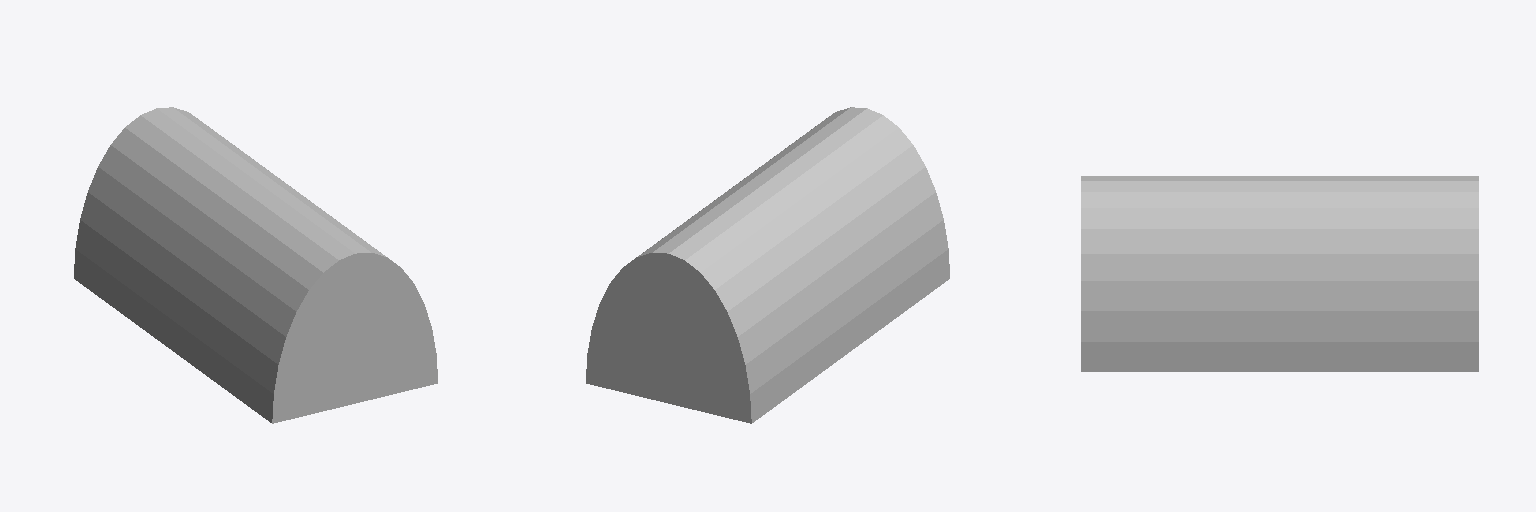
File: coffin_cristal.obj
The picture shows the model from 3 angles: view 1: azimuth 30°, elevation 25°; view 2: azimuth 150°, elevation 25°; view 3: azimuth 270°, elevation 25°; orthographic projection.
Parts seen in each view (by area): view 1: Cristal_Circle; view 2: Cristal_Circle; view 3: Cristal_Circle.
Boxes of the visible parts, x1,y1,x2,y2 form: Cristal_Circle: [74, 107, 437, 423]; Cristal_Circle: [586, 107, 949, 423]; Cristal_Circle: [1081, 176, 1478, 371].
Bounding box in the file's own units: 3.86 × 3.33 × 7.99.